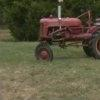Tractor: (22, 7, 100, 66)
